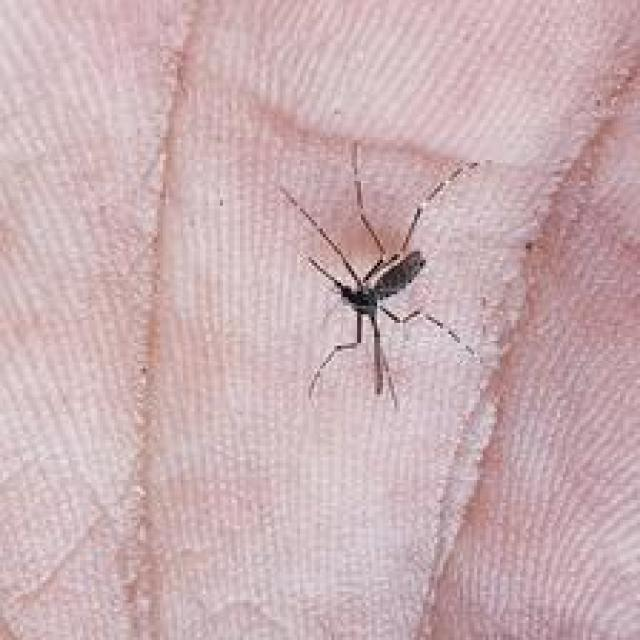Aedes albopictus: (277, 140, 480, 411)
